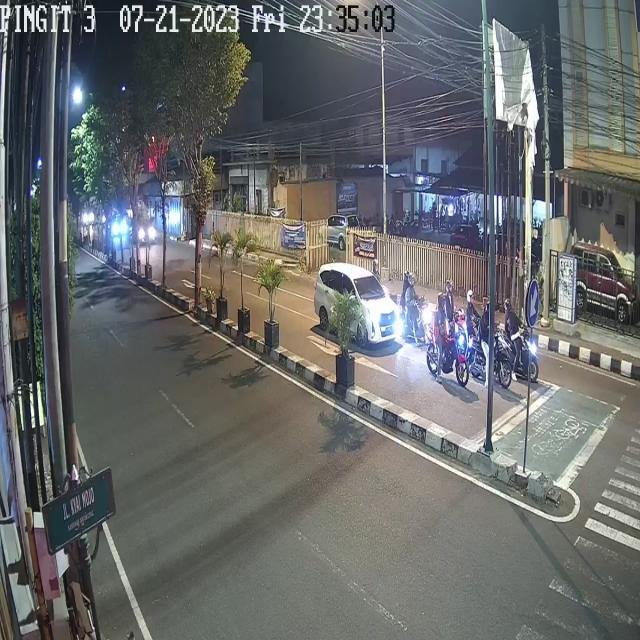car: (312, 262, 402, 356), (133, 210, 155, 248), (108, 211, 128, 238)
motorcycle: (496, 293, 541, 387), (426, 292, 468, 384), (469, 303, 513, 390), (401, 270, 430, 344)
